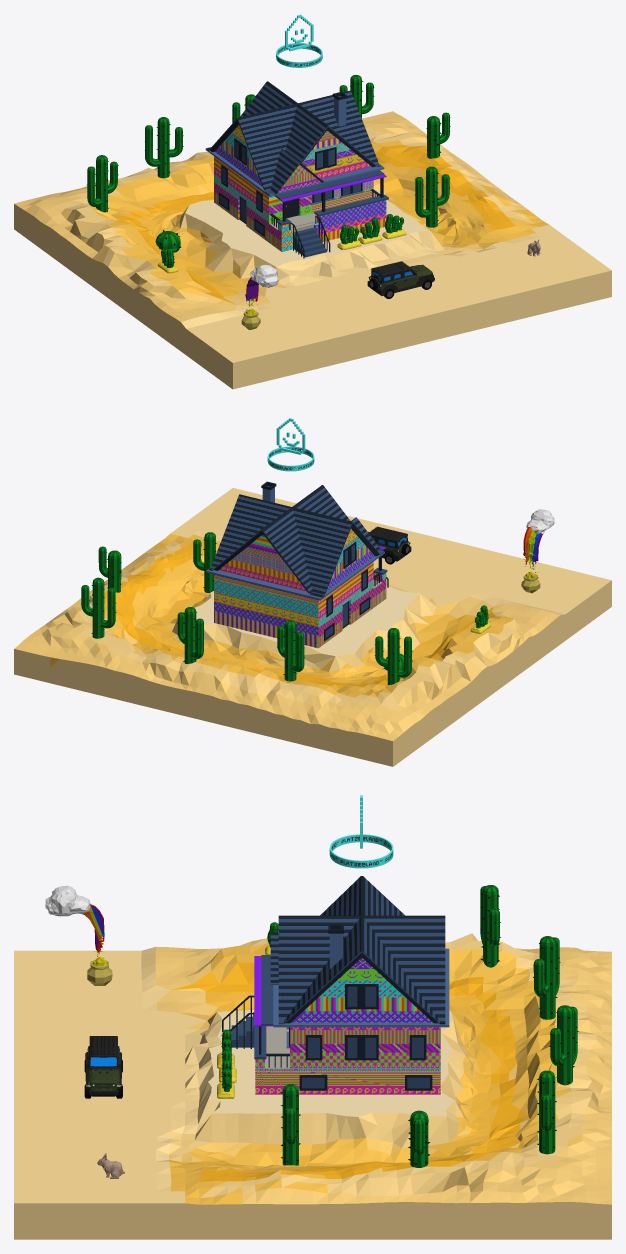
The picture shows the model from 3 angles, top to bottom: view 1: azimuth 30°, elevation 25°; view 2: azimuth 150°, elevation 25°; view 3: azimuth 270°, elevation 25°; orthographic projection. The views are drawn at different scales.
Visible parts, largest first — view 1: Cube.001, Cube.676, VEHICLES_JEEP, Cylinder.044, Cylinder.037, Cylinder.045, OBJRANDOM_RAINBOW, TYPE_PREMIUM, Cylinder.038, Cylinder.042; view 2: Cube.001, Cube.676, Cylinder.042, OBJRANDOM_RAINBOW, Cylinder.045, Cylinder.044, Cylinder.043, TYPE_PREMIUM, VEHICLES_JEEP, Cylinder.037, Cylinder.038; view 3: Cube.001, Cube.676, VEHICLES_JEEP, OBJRANDOM_RAINBOW, Cylinder.044, Cylinder.043, Cylinder.045, Cylinder.042, Cylinder.037, TYPE_PREMIUM, Cylinder.038.
Part boxes in pixels (x1,y1,x2,y2): Cube.001: (14, 111, 611, 389); Cube.676: (205, 81, 388, 258); VEHICLES_JEEP: (367, 261, 434, 298); Cylinder.044: (145, 117, 183, 178); Cylinder.037: (415, 166, 449, 227); Cylinder.045: (87, 155, 118, 212); OBJRANDOM_RAINBOW: (241, 264, 278, 329); TYPE_PREMIUM: (276, 14, 322, 67); Cylinder.038: (426, 112, 450, 158); Cylinder.042: (339, 75, 374, 118); Cube.001: (14, 488, 611, 766); Cube.676: (206, 481, 388, 648); Cylinder.042: (81, 577, 116, 638); OBJRANDOM_RAINBOW: (521, 509, 554, 593); Cylinder.045: (374, 628, 412, 684); Cylinder.044: (277, 620, 304, 681); Cylinder.043: (177, 607, 203, 663); TYPE_PREMIUM: (267, 418, 314, 471); VEHICLES_JEEP: (368, 526, 411, 564); Cylinder.037: (193, 532, 220, 592); Cylinder.038: (98, 546, 121, 592); Cube.001: (14, 933, 611, 1239); Cube.676: (222, 876, 449, 1094); VEHICLES_JEEP: (84, 1036, 122, 1098); OBJRANDOM_RAINBOW: (45, 885, 112, 985); Cylinder.044: (533, 936, 560, 1019); Cylinder.043: (549, 1005, 578, 1085); Cylinder.045: (480, 885, 500, 967); Cylinder.042: (537, 1070, 556, 1154); Cylinder.037: (281, 1084, 300, 1165); TYPE_PREMIUM: (329, 795, 393, 868); Cylinder.038: (408, 1110, 429, 1167).
Size of the model in its own units: 4002 by 2460 by 4001.
42 materials, 8 textured.
